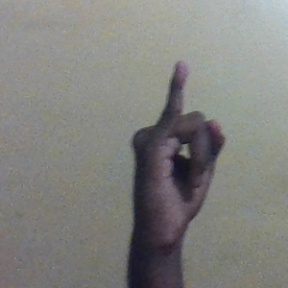I: (128, 58, 234, 251)
